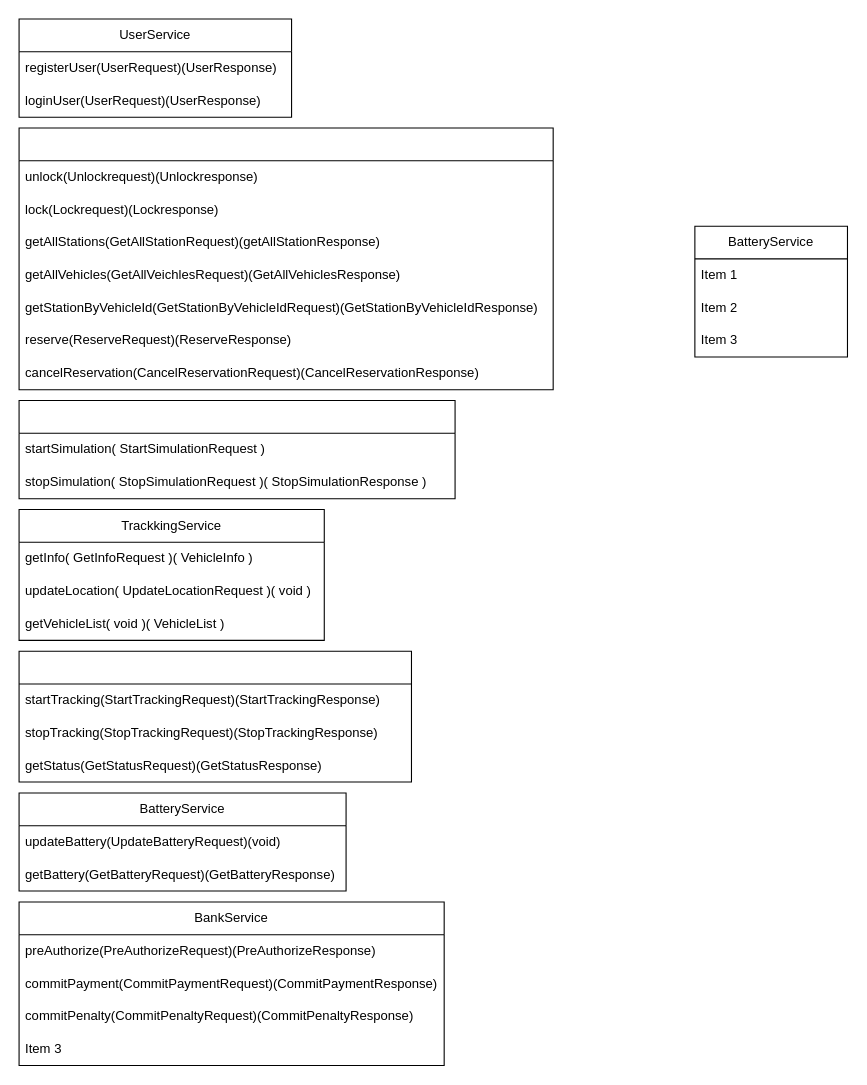
The diagram is 867 pixels wide and 1085 high, and some of its shapes have lost their labels. The box of each missing label's shape, as (x1, y1, x2, y2) in pixels:
FleetMangament: (18, 650, 411, 782)
SimulatorService: (18, 399, 455, 499)
StationService: (18, 127, 553, 390)
